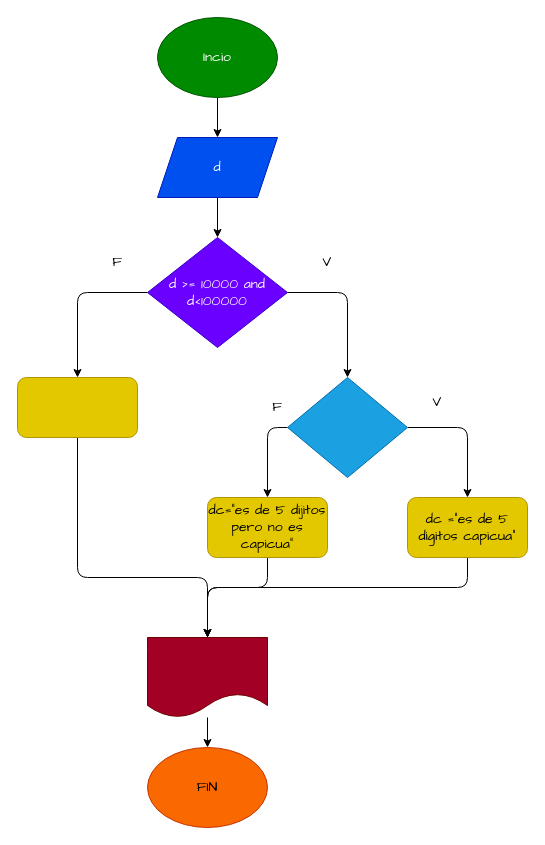
This 545x845 diagram has some shape labels left out. Each missing label, with the box of its shape:
d,dc: (146, 636, 268, 718)
d1=d5 and d2=d4: (286, 376, 408, 478)
dc= " no es un numero de 5 dijitos: (16, 376, 138, 438)
